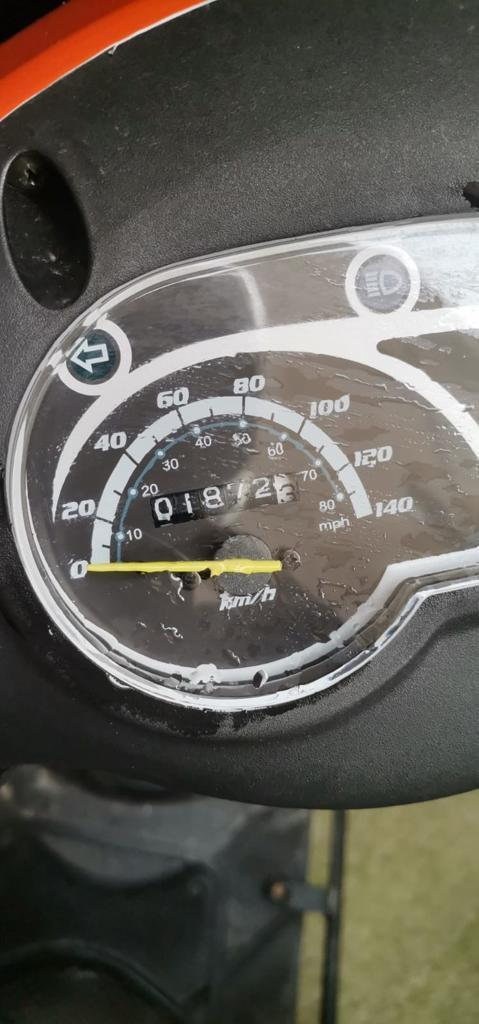0: (154, 496, 174, 521), (149, 482, 159, 494)
1: (183, 492, 193, 515)
2: (251, 476, 271, 499)
3: (279, 482, 297, 503)
7: (227, 480, 244, 499)
8: (202, 486, 222, 508)
odometer: (147, 470, 301, 530)
